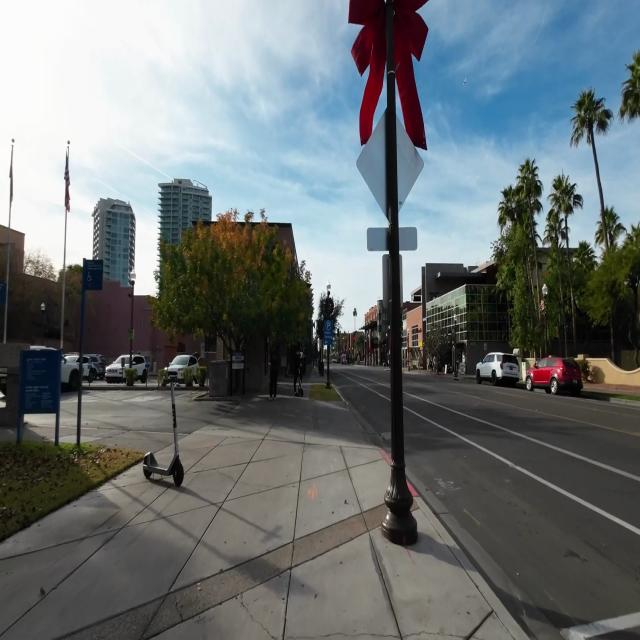road: (402, 373, 640, 639), (333, 367, 391, 458)
side walk: (0, 392, 450, 639)
street sign: (380, 33, 405, 481)
